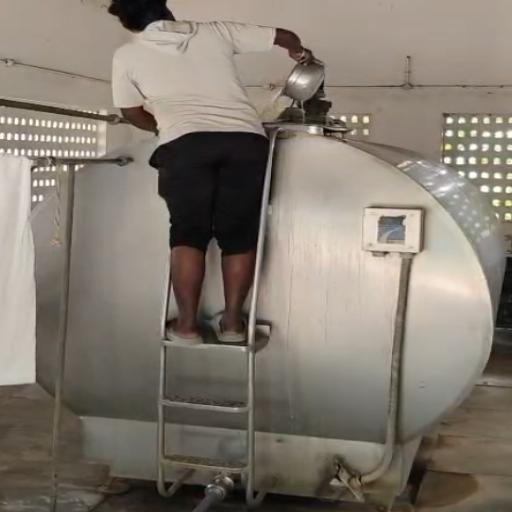silo: (34, 122, 509, 503)
vessel: (282, 62, 327, 102)
